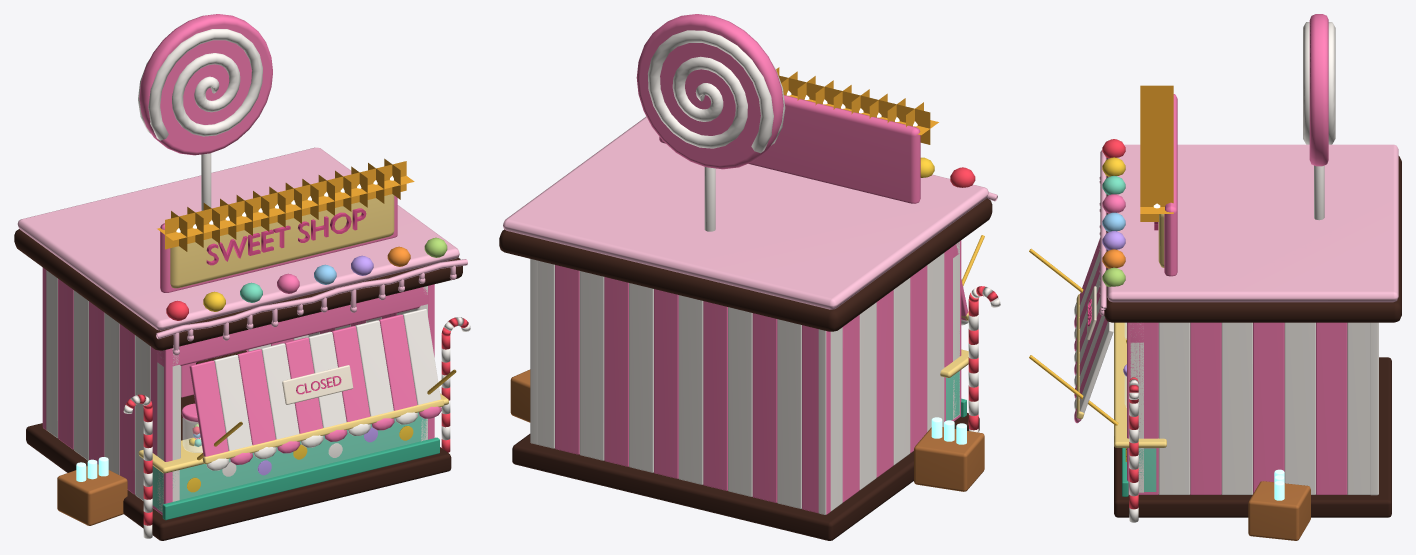
File: candy_station.glb
3 views of the same model, side by side, from view 1: azimuth 30°, elevation 25°; view 2: azimuth 150°, elevation 25°; view 3: azimuth 270°, elevation 25° (orthographic). The views are drawn at different scales.
Parts seen in each view (by area): view 1: Station, Shutter, ClosedSign; view 2: Station; view 3: Station, Shutter, OpenDressing.
Part boxes in pixels (x1=…): Station: x1=14, y1=14, x2=470, y2=540; Shutter: x1=189, y1=308, x2=443, y2=470; ClosedSign: x1=282, y1=365, x2=353, y2=404; Station: x1=499, y1=14, x2=1000, y2=540; Station: x1=1099, y1=14, x2=1401, y2=540; Shutter: x1=1074, y1=238, x2=1113, y2=423; OpenDressing: x1=1029, y1=248, x2=1118, y2=425.
Bounding box in the file's own units: 6.83 × 7.09 × 5.64.
